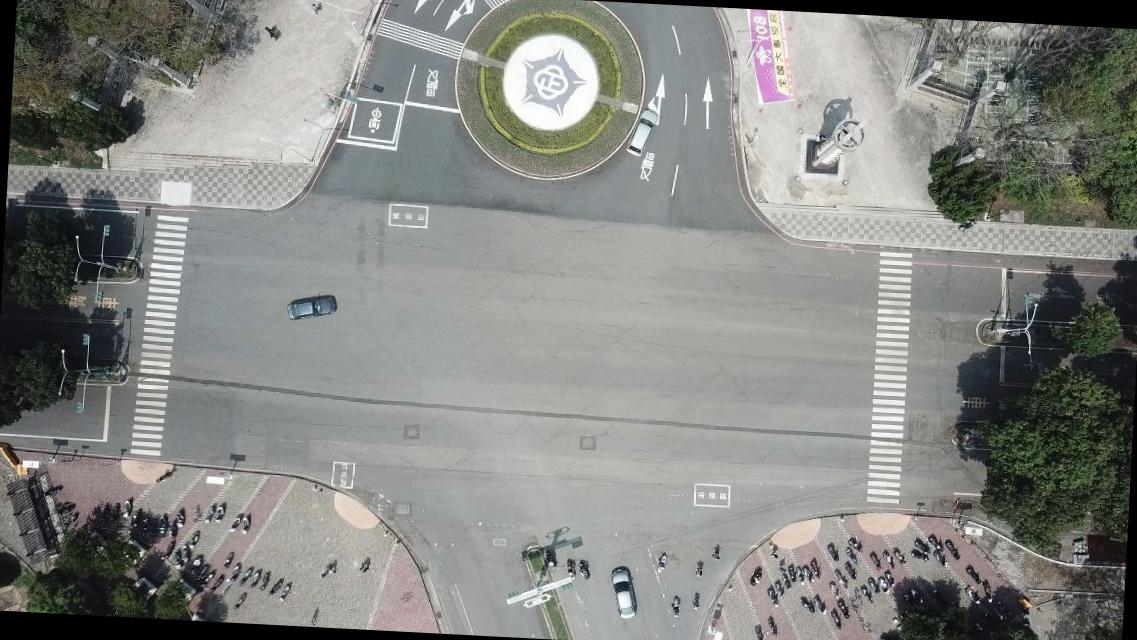vehicle: (624, 106, 658, 160), (608, 568, 639, 621), (284, 292, 337, 322)
